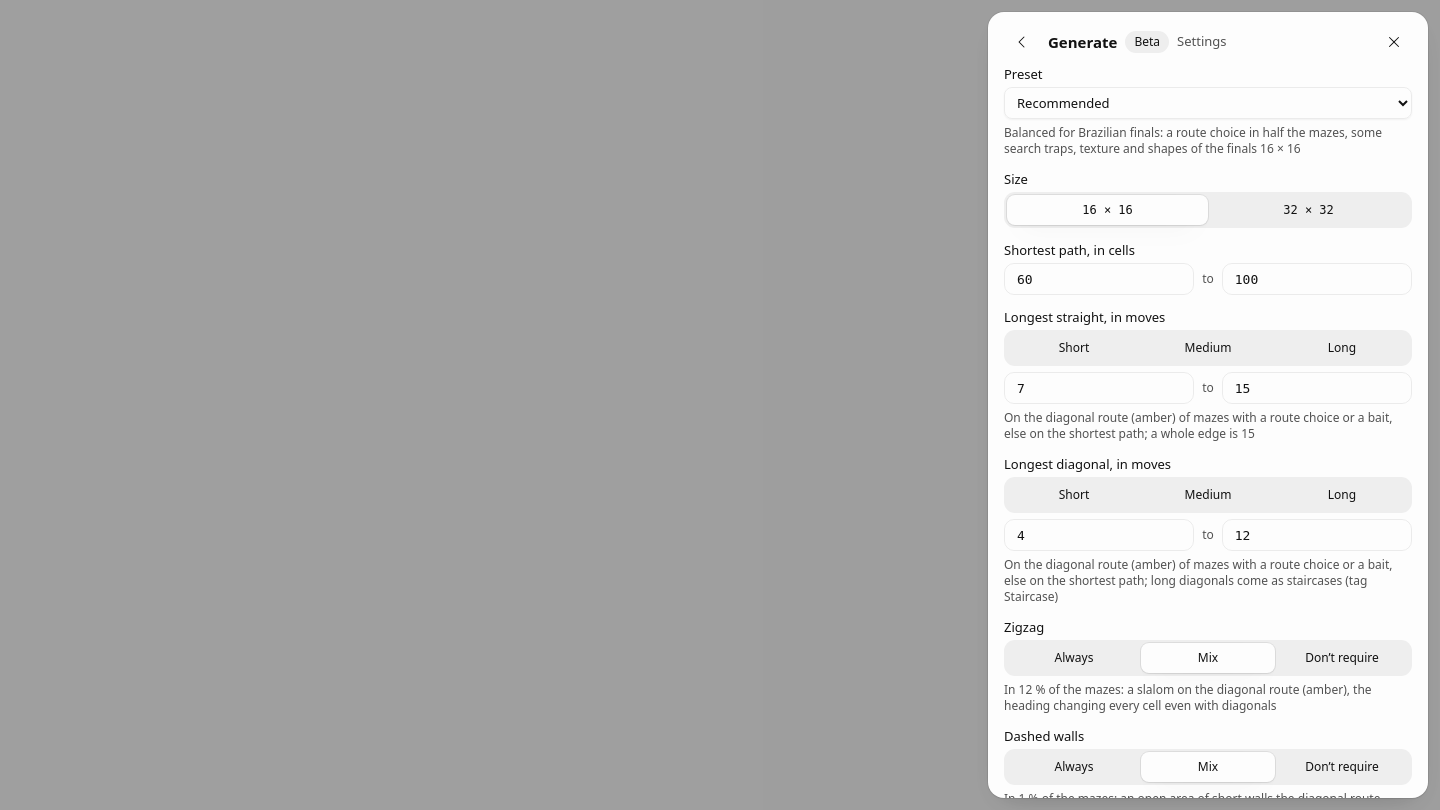
Test case: The Generate dialog › says when a range does not read and keeps Generate off until it does
Replace the text in the number field named "Shortest path, in cells, from" with "120" at (1099, 279), box [1004, 263, 1194, 295]
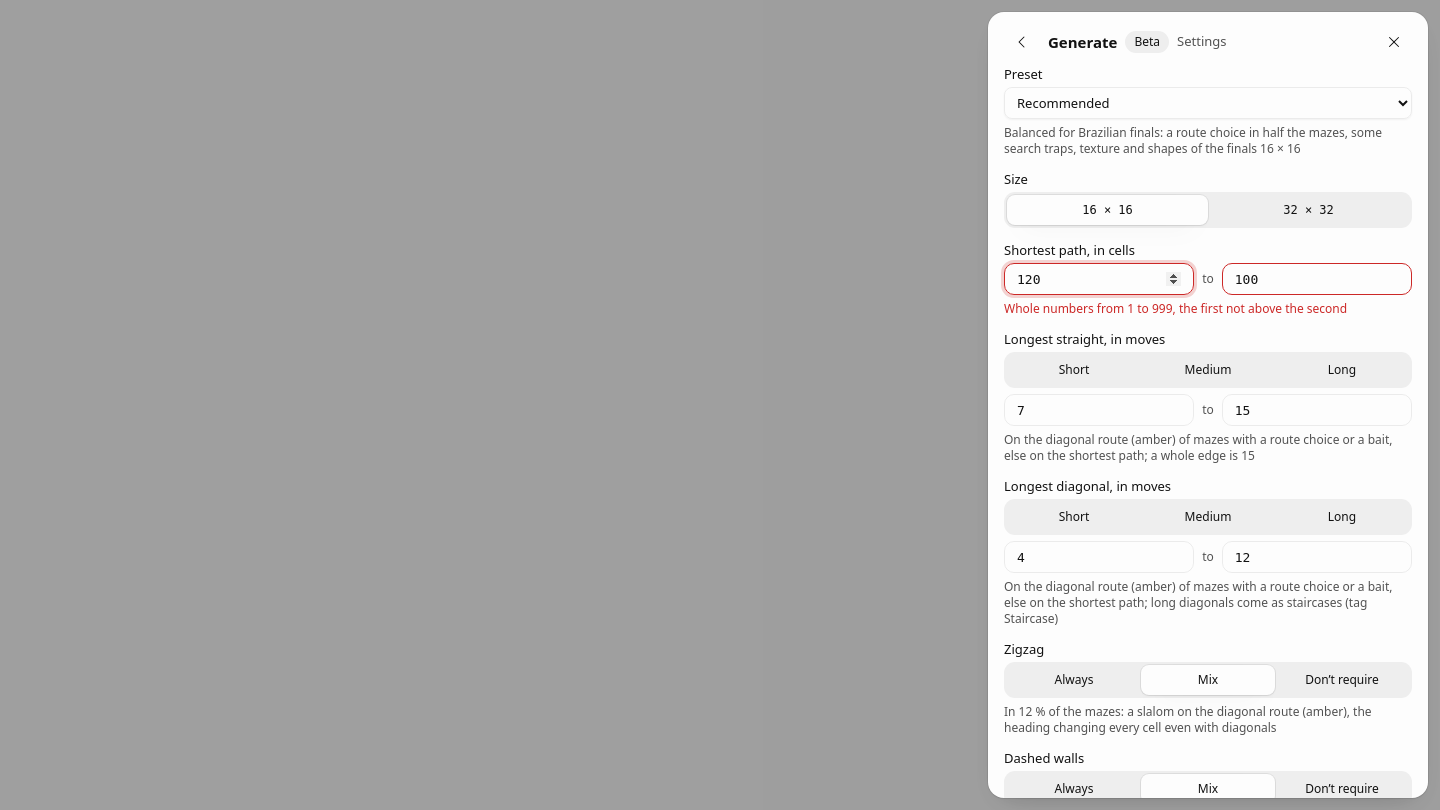
Check: the text "Whole numbers from 1 to 999, the first not above the second" is shown, box [1004, 300, 1347, 317]
Replace the text in the number field named "Shortest path, in cells, from" with "70" at (1099, 279), box [1004, 263, 1194, 295]
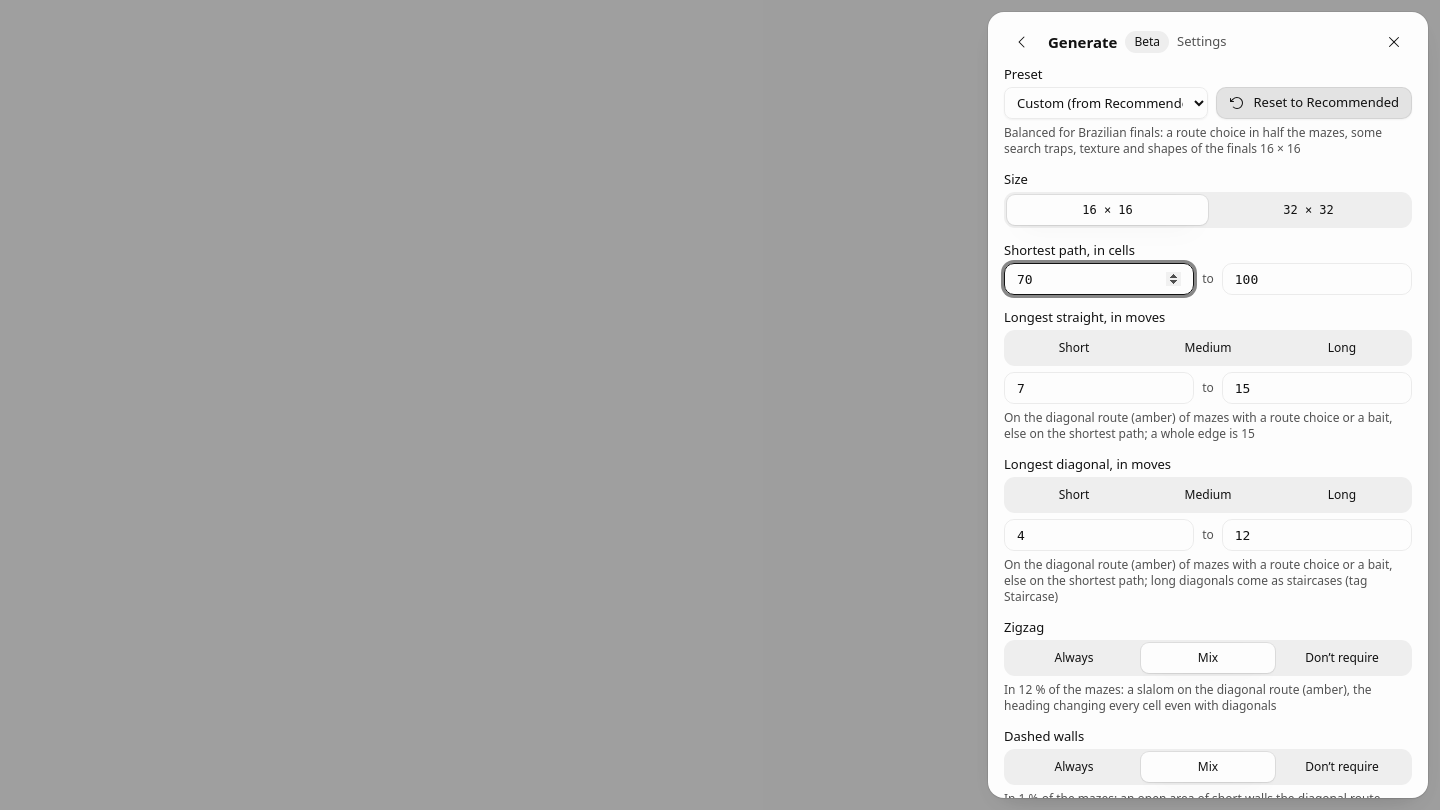
Check: the dropdown labelled "Preset" shows "Custom (from Recommended)", box [1004, 87, 1208, 119]
